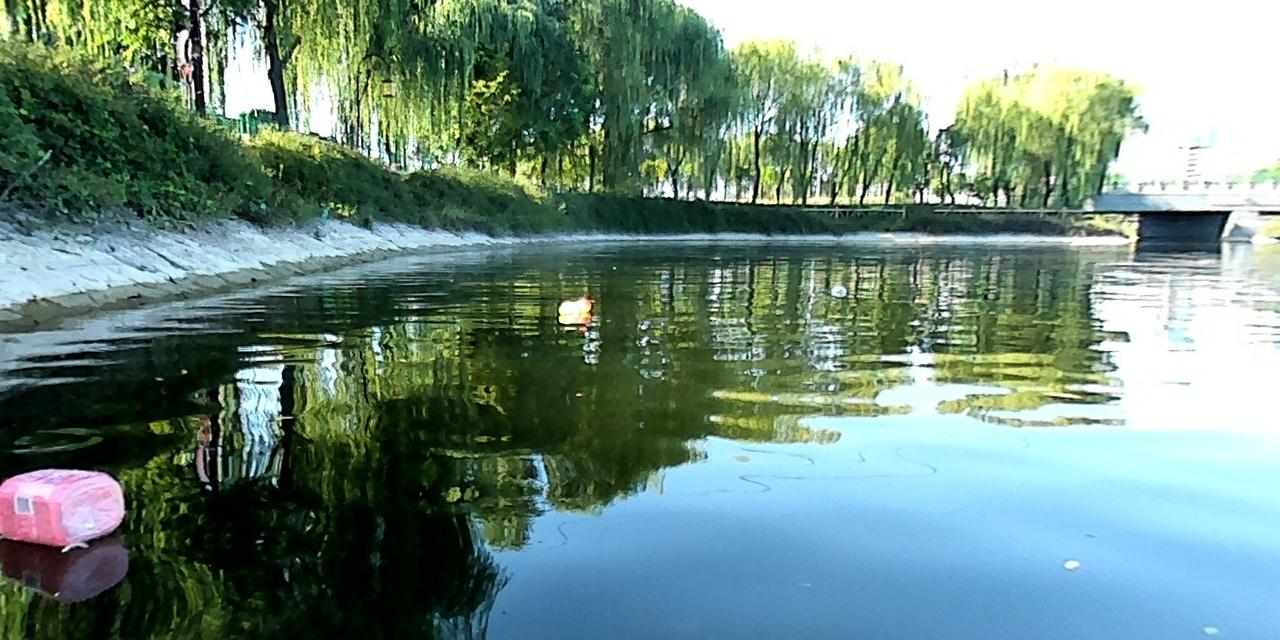bottle: (0, 461, 133, 551), (551, 293, 595, 318)
